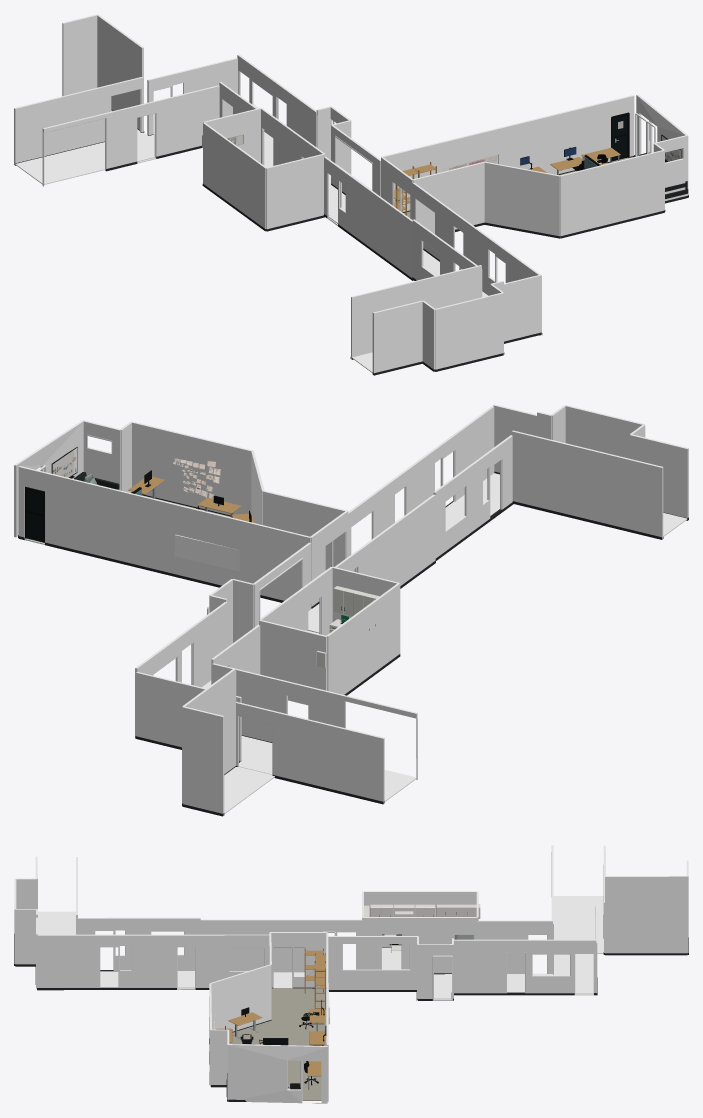
3 views of the same model, one above another, from view 1: azimuth 30°, elevation 25°; view 2: azimuth 150°, elevation 25°; view 3: azimuth 270°, elevation 25° (orthographic). The views are drawn at different scales.
Visible parts, largest first — view 1: architecture_region_lab-wall-1, architecture_region_lab-wall-5, architecture_region_north-inner, architecture_region_north-outer, architecture_region_lab-hall-west, architecture_region_lab-wall-6, architecture_region_west-inner, architecture_region_west-alcove-back, architecture_region_kitchen-wall-4, architecture_region_kitchen-wall-3, architecture_region_south-hall-east, architecture_region_west-outer-left (+20 smaller); view 2: architecture_region_lab-wall-1, architecture_region_west-inner, architecture_region_lab-wall-5, architecture_region_north-outer, architecture_region_south-hall-east, architecture_region_kitchen-wall-4, architecture_region_north-inner, architecture_region_lab-hall-west, architecture_region_stair-north, architecture_region_south-hall-west, architecture_region_kitchen-wall-1, architecture_region_north-entry (+22 smaller); view 3: architecture_region_south-hall-east, architecture_region_stair-east, architecture_region_central-east, architecture_region_lab-wall-2, architecture_region_lab-hall-west, architecture_floor_lab-2f, architecture_region_kitchen-wall-2, architecture_floor_north-hall-2f, architecture_region_central-east-south, architecture_region_lab-wall-6, architecture_region_south-hall-west, architecture_region_central-west (+11 smaller).
Boxes of the visible parts, x1,y1,x2,y2 form: architecture_region_lab-wall-1: (381,95,634,211); architecture_region_lab-wall-5: (560,150,664,237); architecture_region_north-inner: (42,85,219,186); architecture_region_north-outer: (14,85,108,165); architecture_region_lab-hall-west: (324,156,412,277); architecture_region_lab-wall-6: (484,161,560,236); architecture_region_west-inner: (351,265,481,359); architecture_region_west-alcove-back: (434,292,503,369); architecture_region_kitchen-wall-4: (203,122,266,228); architecture_region_kitchen-wall-3: (266,154,324,229); architecture_region_south-hall-east: (412,182,541,335); architecture_region_west-outer-left: (372,300,422,373); architecture_region_lab-wall-1: (18,466,310,600); architecture_region_west-inner: (511,430,663,539); architecture_region_lab-wall-5: (131,421,253,515); architecture_region_north-outer: (275,711,384,803); architecture_region_south-hall-east: (348,405,494,571); architecture_region_kitchen-wall-4: (326,583,400,694); architecture_region_north-inner: (211,663,417,779); architecture_region_lab-hall-west: (335,494,435,585); architecture_region_stair-north: (182,706,224,815); architecture_region_south-hall-west: (433,435,512,557); architecture_region_kitchen-wall-1: (259,620,327,705); architecture_region_north-entry: (135,672,241,761); architecture_region_south-hall-east: (37,934,269,989); architecture_region_stair-east: (605,876,687,953); architecture_region_central-east: (454,939,596,995); architecture_region_lab-wall-2: (228,1044,327,1103); architecture_region_lab-hall-west: (200,919,362,972); architecture_floor_lab-2f: (229,988,326,1100); architecture_region_kitchen-wall-2: (363,917,476,973); architecture_floor_north-hall-2f: (553,896,603,994); architecture_region_central-east-south: (328,936,417,989); architecture_region_lab-wall-6: (210,964,271,1031); architecture_region_south-hall-west: (77,917,200,970); architecture_region_central-west: (477,920,552,973).
Size of the model in its own units: 24.21 by 4.21 by 32.79.
49 materials, 4 textured.
